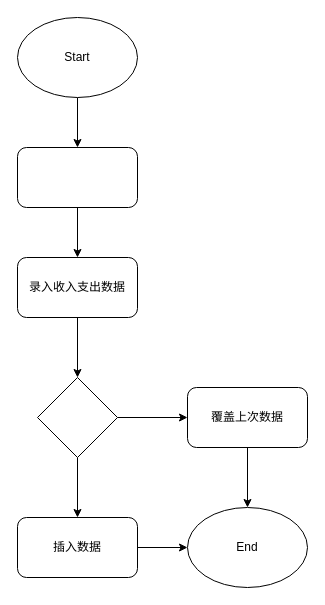
This 325x605 diagram has some shape labels left out. The centre of each missing label's shape, as x and y in pixels:
下载导入模板， 按要求修改excel名称: point 77,177
是否已 存在记录: point 77,417
